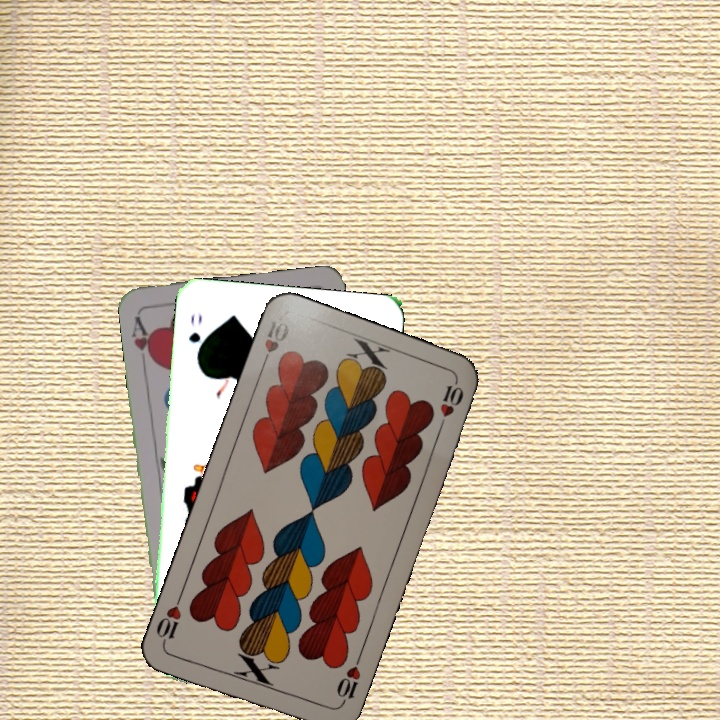GO: (184, 309, 207, 363)
H10: (257, 316, 292, 372), (332, 652, 364, 709)
HA: (128, 312, 158, 367)
